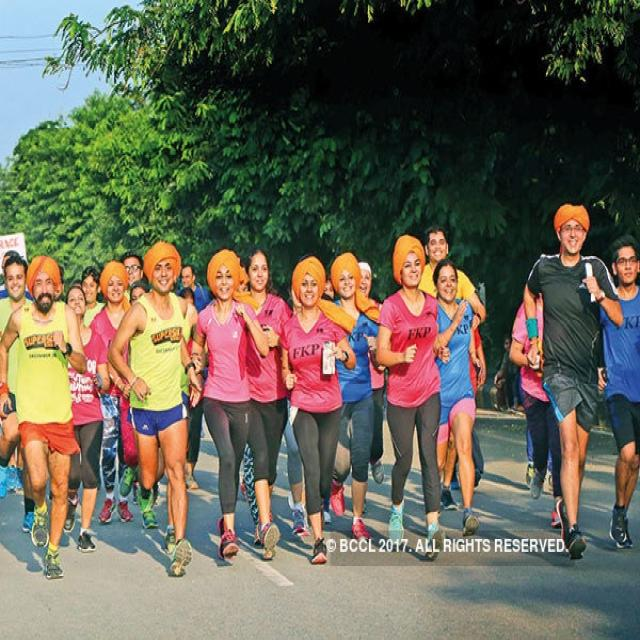body: (0, 420, 621, 573), (521, 201, 625, 563), (104, 237, 205, 579), (0, 255, 90, 583), (188, 246, 271, 565), (372, 232, 451, 562), (276, 253, 358, 566), (415, 223, 487, 512), (417, 256, 484, 539), (243, 243, 296, 563), (327, 249, 383, 547), (587, 233, 639, 553), (60, 283, 110, 555), (507, 290, 563, 532), (88, 260, 134, 525), (0, 253, 38, 533), (358, 256, 388, 516), (175, 262, 212, 316), (493, 331, 516, 417), (118, 250, 150, 309), (78, 266, 107, 328), (0, 247, 22, 300), (115, 386, 137, 430), (234, 255, 250, 297), (320, 276, 336, 306), (177, 284, 196, 308), (53, 277, 66, 303), (70, 276, 81, 289)
